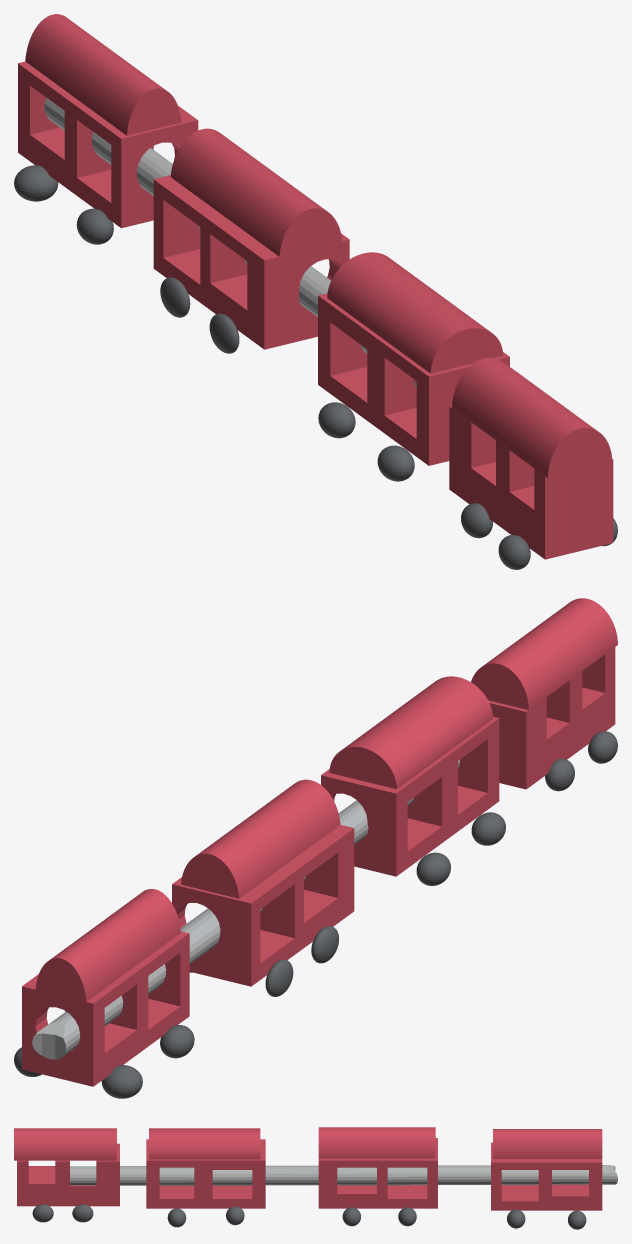
The model's file is Grand Stantia-Rottis.glb.
The picture shows the model from 3 angles, top to bottom: view 1: azimuth 30°, elevation 25°; view 2: azimuth 150°, elevation 25°; view 3: azimuth 270°, elevation 25°; orthographic projection. The views are drawn at different scales.
Visible parts, largest first — view 1: Mesh_Mesh_head_geo.001_lambert2SG.001; view 2: Mesh_Mesh_head_geo.001_lambert2SG.001; view 3: Mesh_Mesh_head_geo.001_lambert2SG.001.
Part boxes in pixels (<box>): Mesh_Mesh_head_geo.001_lambert2SG.001: <box>14,14,617,569</box>; Mesh_Mesh_head_geo.001_lambert2SG.001: <box>14,598,617,1098</box>; Mesh_Mesh_head_geo.001_lambert2SG.001: <box>14,1127,617,1229</box>.
Size of the model in its own units: 34 by 35 by 228.
